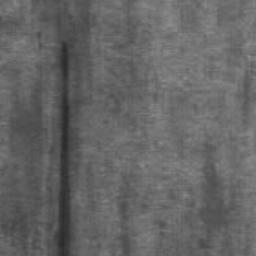Scratches: (53, 40, 70, 256)
